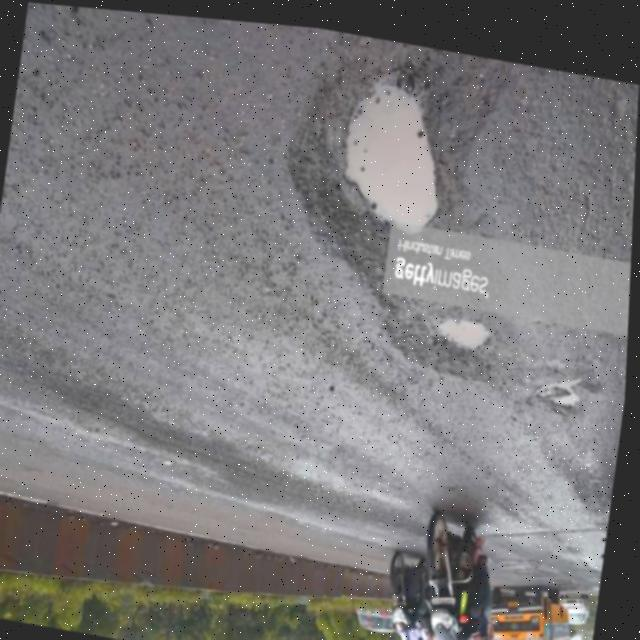Pothole: (274, 51, 465, 284), (426, 281, 523, 383)
